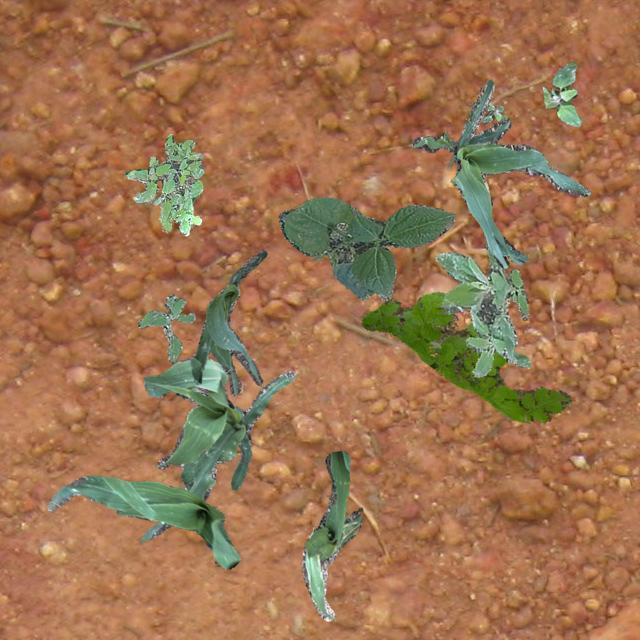crop: (410, 79, 590, 268), (140, 356, 296, 540), (278, 196, 454, 300), (45, 474, 238, 568), (190, 248, 266, 396), (300, 450, 362, 620)
weed: (360, 290, 570, 422), (434, 242, 530, 376), (124, 133, 204, 235), (136, 292, 194, 362), (542, 61, 580, 126), (481, 103, 506, 123)
